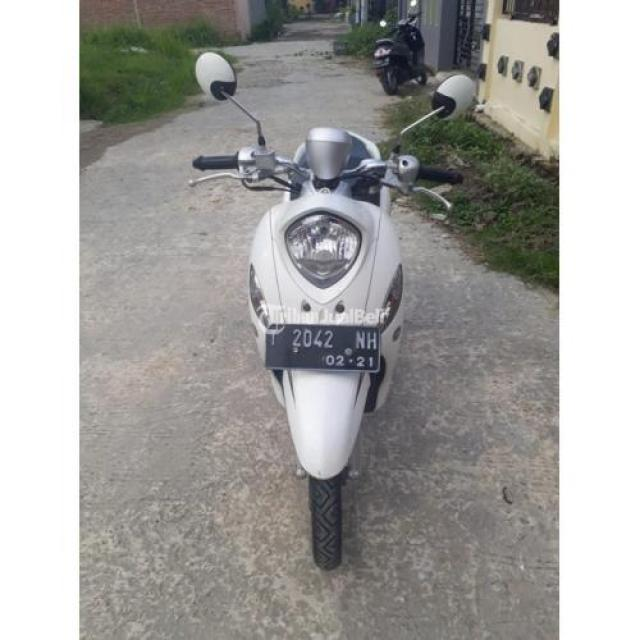plate: (264, 325, 382, 373)
